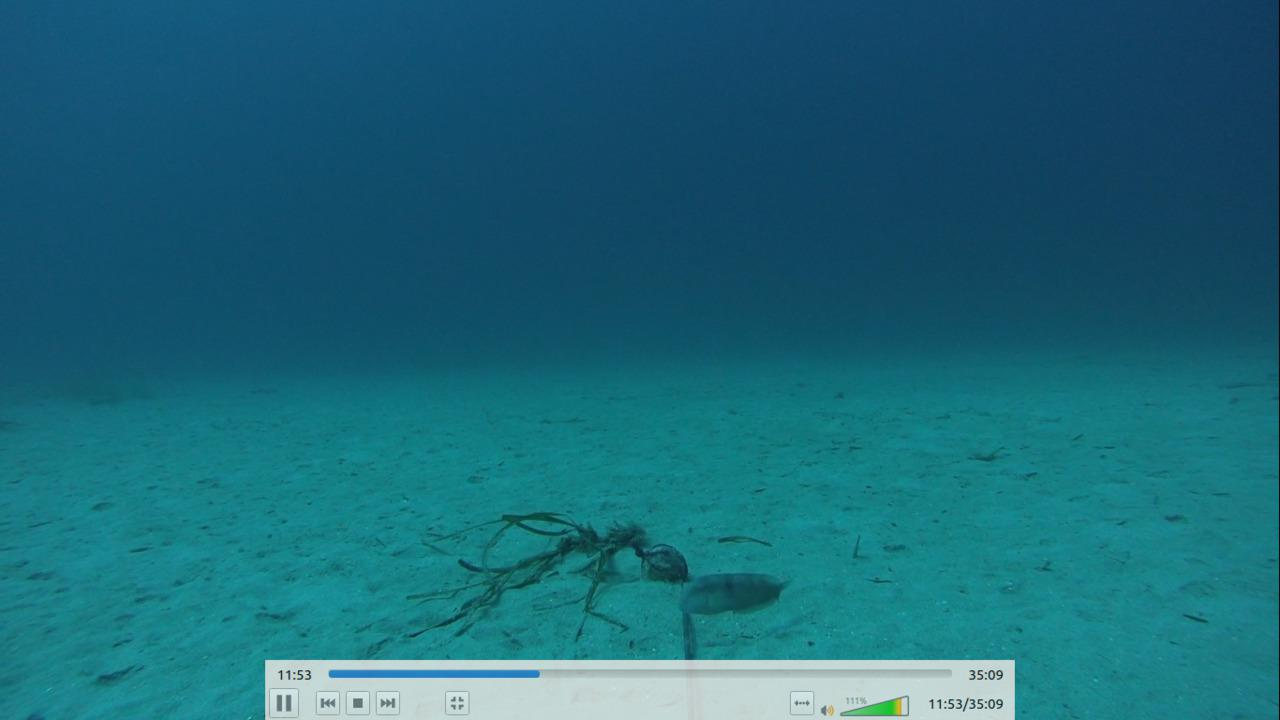raor: (677, 567, 789, 618)
